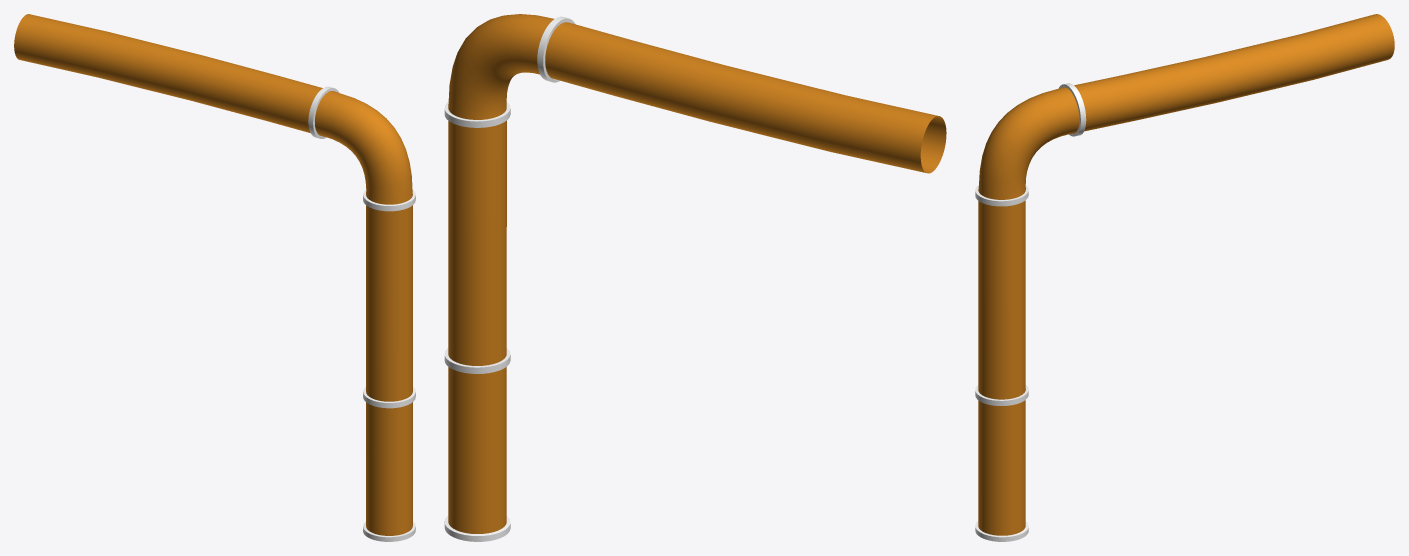
The model's file is SM_H_Building_Tide_Waterway_11c_ATLAS.fbx.
3 renders of one model, left to right at view 1: azimuth 30°, elevation 25°; view 2: azimuth 210°, elevation 25°; view 3: azimuth 270°, elevation 25°, orthographic. The views are drawn at different scales.
Visible parts, largest first — view 1: SM_H_Building_Tide_Waterway_11c_ATLAS; view 2: SM_H_Building_Tide_Waterway_11c_ATLAS; view 3: SM_H_Building_Tide_Waterway_11c_ATLAS.
Part boxes in pixels (x1,y1,x2,y2): SM_H_Building_Tide_Waterway_11c_ATLAS: (14, 14, 415, 541); SM_H_Building_Tide_Waterway_11c_ATLAS: (444, 14, 946, 541); SM_H_Building_Tide_Waterway_11c_ATLAS: (975, 14, 1394, 541).
Bounding box in the file's own units: 659 × 1085 × 1229.
